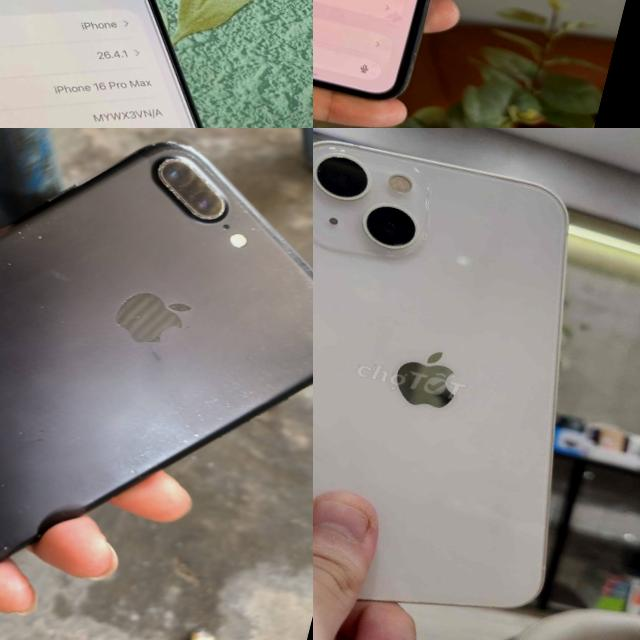gen_11: (313, 0, 521, 119)
gen_12_13: (313, 128, 640, 640)
gen_16: (0, 0, 313, 128)
gen_7_8: (0, 128, 313, 640)
